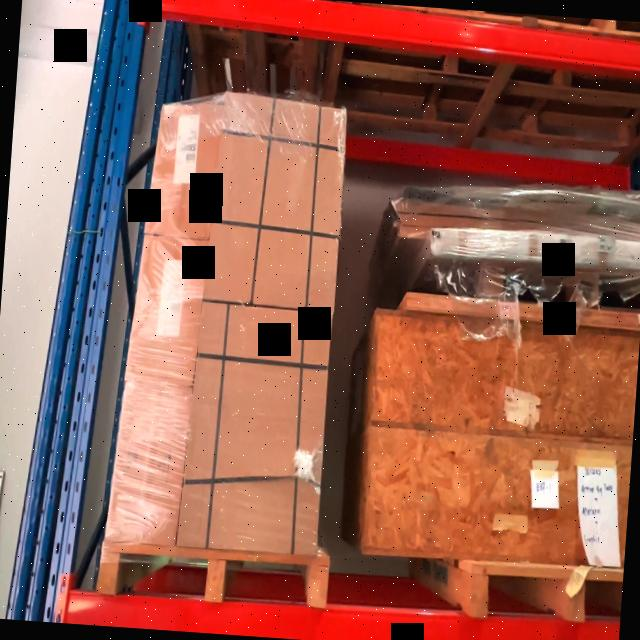box: (182, 304, 332, 552), (206, 98, 348, 308), (105, 376, 191, 543), (126, 235, 208, 381), (143, 105, 218, 240)
